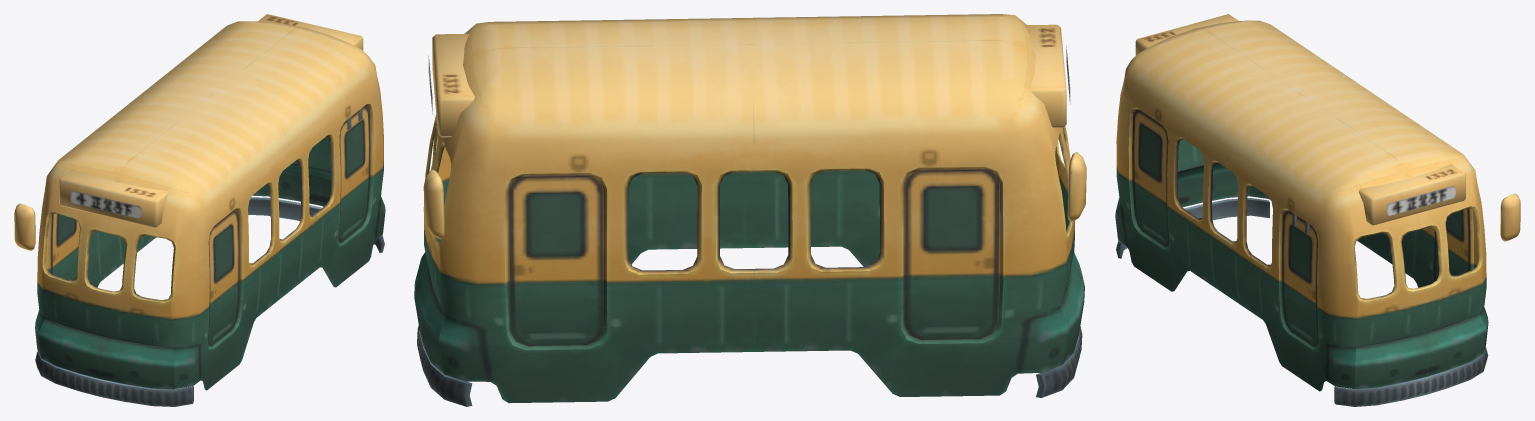
3 renders of one model, left to right at view 1: azimuth 30°, elevation 25°; view 2: azimuth 150°, elevation 25°; view 3: azimuth 270°, elevation 25°, orthographic. The views are drawn at different scales.
Visible parts, largest first — view 1: Object675_paintmat_0; view 2: Object675_paintmat_0; view 3: Object675_paintmat_0.
Boxes of the visible parts, bbox=[...] form: Object675_paintmat_0: bbox=[14, 14, 385, 406]; Object675_paintmat_0: bbox=[414, 14, 1086, 406]; Object675_paintmat_0: bbox=[1115, 14, 1520, 406].
Size of the model in its own units: 197 by 98.65 by 166.
Materials: 1 (1 with a texture image).
